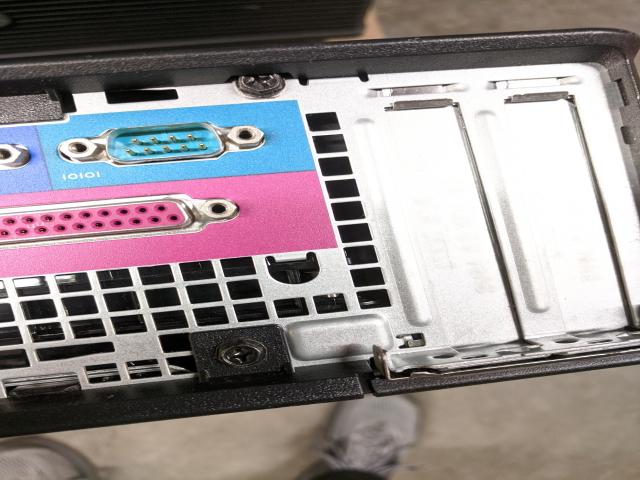CRS: (232, 68, 294, 97), (217, 339, 267, 368)
